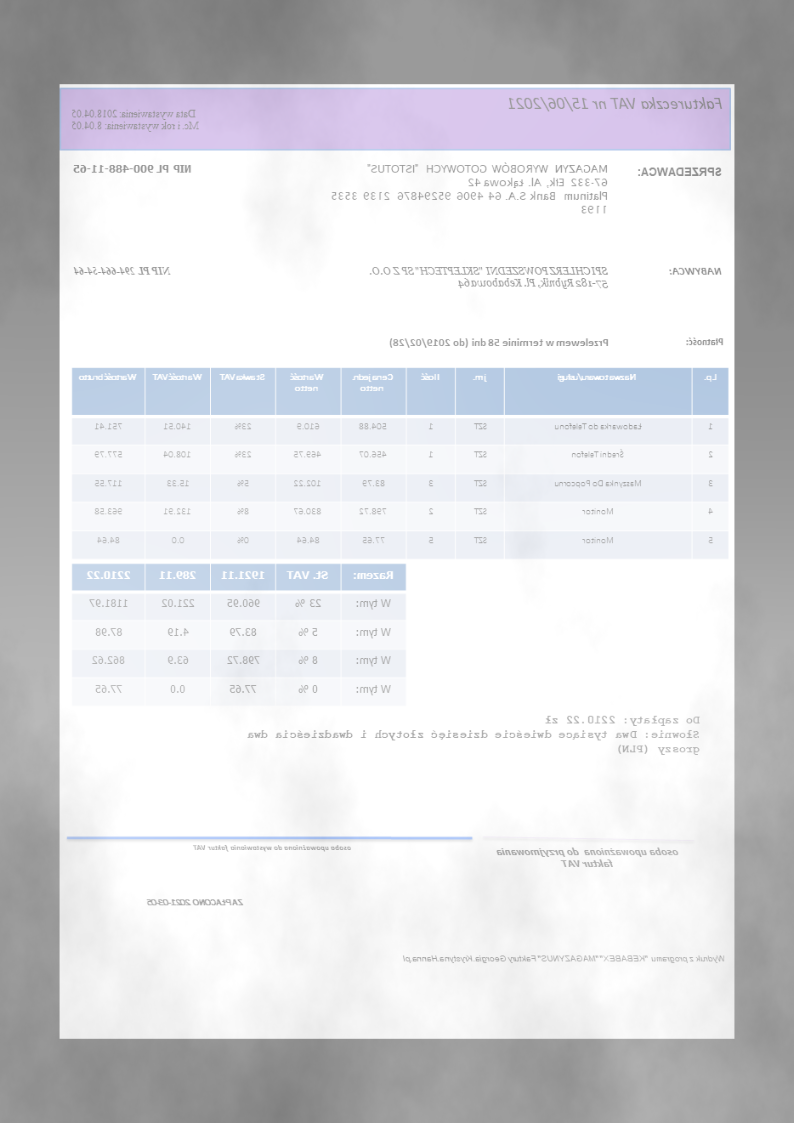Table: (71, 366, 730, 560), (71, 562, 407, 706)
TextBox: (244, 713, 702, 757), (329, 160, 610, 215), (367, 264, 610, 291), (494, 844, 681, 870), (400, 951, 728, 965), (507, 94, 724, 112), (70, 105, 201, 131), (388, 337, 610, 349), (191, 842, 354, 853), (72, 162, 195, 176), (636, 162, 724, 179), (73, 264, 173, 278), (146, 895, 246, 909), (667, 264, 724, 277), (684, 334, 725, 349)
